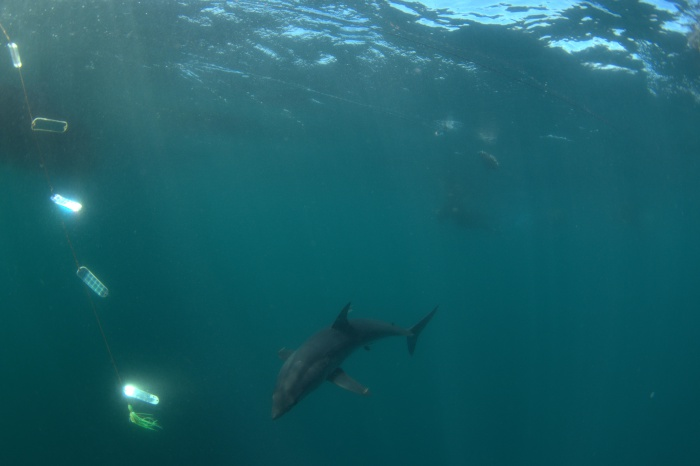Mako: (262, 297, 445, 427)
